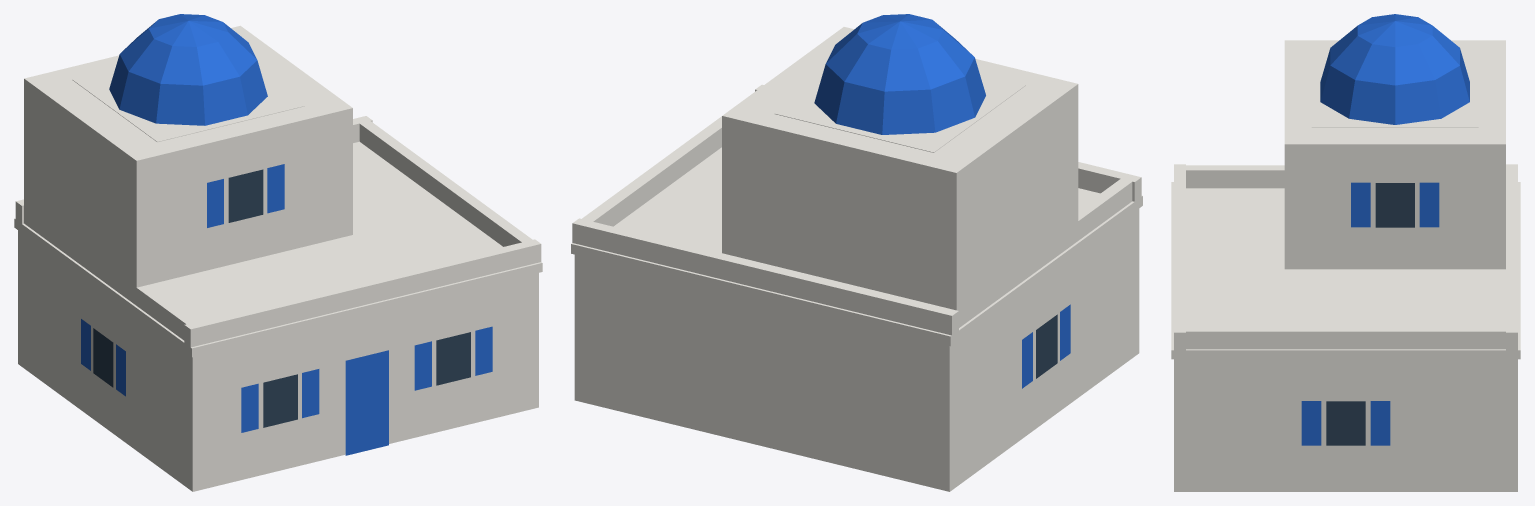
The model's file is maison_cycladique.glb.
3 renders of one model, left to right at view 1: azimuth 30°, elevation 25°; view 2: azimuth 150°, elevation 25°; view 3: azimuth 270°, elevation 25°, orthographic. The views are drawn at different scales.
Visible parts, largest first — view 1: maison_cycladique; view 2: maison_cycladique; view 3: maison_cycladique.
Part boxes in pixels (bbox=[...]): maison_cycladique: bbox=[14, 14, 542, 491]; maison_cycladique: bbox=[571, 14, 1142, 491]; maison_cycladique: bbox=[1171, 14, 1520, 491].
Bounding box in the file's own units: 8.1 × 8 × 7.1.
1 material, 1 textured.
